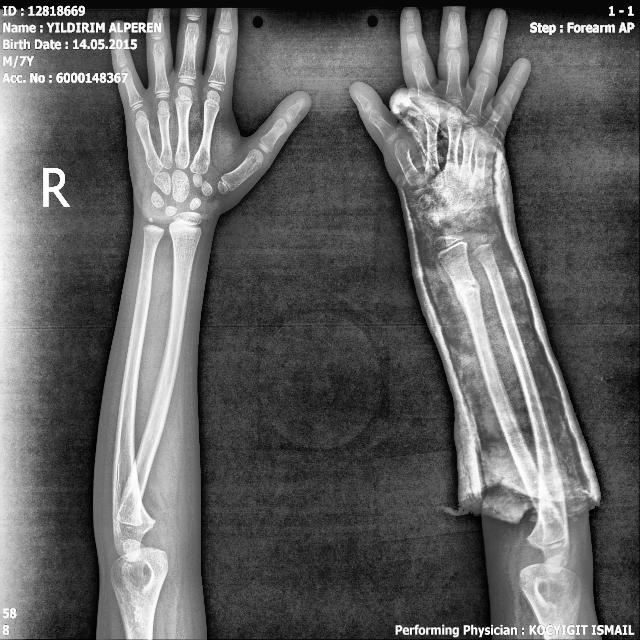Fracture: (453, 272, 484, 306)
